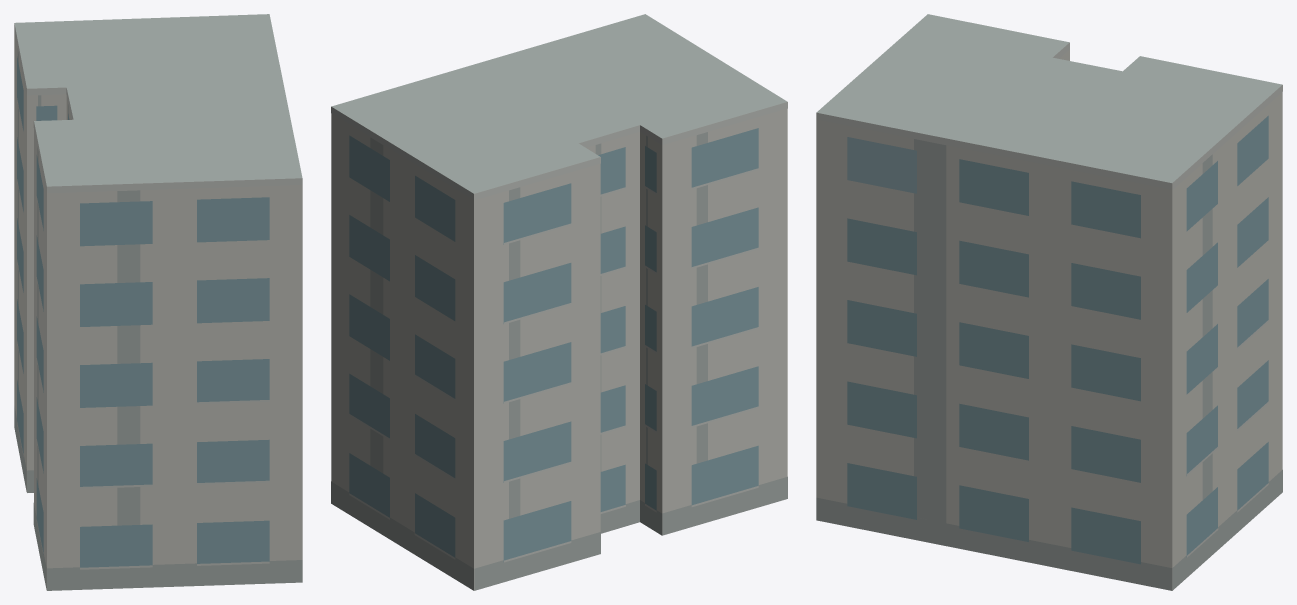
The model's file is survey-upis-32906926.glb.
3 renders of one model, left to right at view 1: azimuth 30°, elevation 25°; view 2: azimuth 150°, elevation 25°; view 3: azimuth 270°, elevation 25°, orthographic. The views are drawn at different scales.
Visible parts, largest first — view 1: survey-upis-32906926.tmp; view 2: survey-upis-32906926.tmp; view 3: survey-upis-32906926.tmp.
Boxes of the visible parts, box(x1,y1,x2,y2) form: survey-upis-32906926.tmp: box(14, 14, 302, 590); survey-upis-32906926.tmp: box(331, 14, 787, 590); survey-upis-32906926.tmp: box(816, 14, 1282, 590).
Size of the model in its own units: 12.83 by 14.4 by 14.94.
